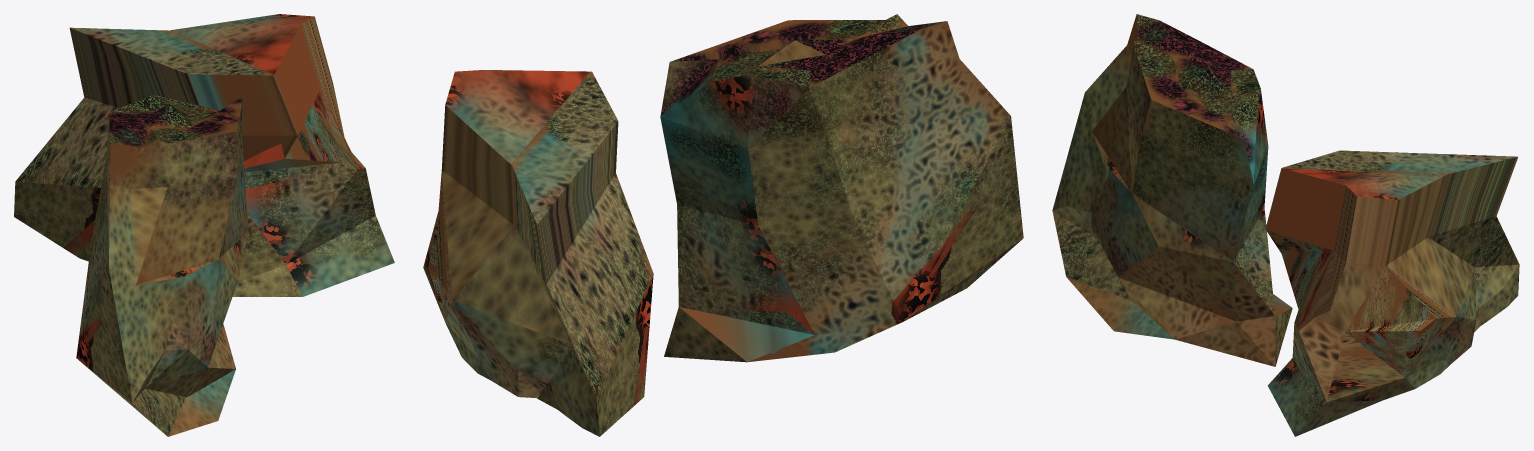
The model's file is cult_boulder_stand1.fbx.
3 views of the same model, side by side, from view 1: azimuth 30°, elevation 25°; view 2: azimuth 150°, elevation 25°; view 3: azimuth 270°, elevation 25° (orthographic). The views are drawn at different scales.
Visible parts, largest first — view 1: SkewRock#3, SkewRock#2; view 2: SkewRock#2, SkewRock#3; view 3: SkewRock#2, SkewRock#3.
Part boxes in pixels (bbox=[...]): SkewRock#3: bbox=[14, 14, 394, 296]; SkewRock#2: bbox=[76, 95, 248, 436]; SkewRock#2: bbox=[660, 14, 1023, 362]; SkewRock#3: bbox=[423, 70, 653, 436]; SkewRock#2: bbox=[1052, 14, 1292, 366]; SkewRock#3: bbox=[1265, 150, 1519, 436].
Size of the model in its own units: 349 by 245 by 378.
Materials: 1 (1 with a texture image).
